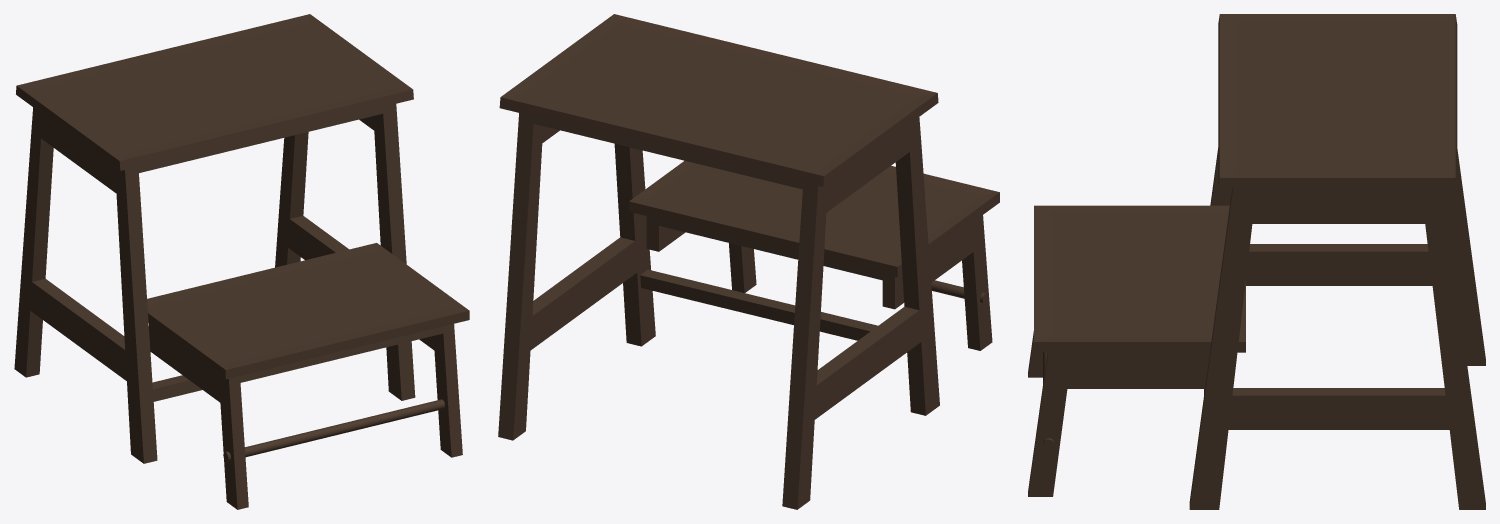
The model's file is StepStool.fbx.
3 renders of one model, left to right at view 1: azimuth 30°, elevation 25°; view 2: azimuth 150°, elevation 25°; view 3: azimuth 270°, elevation 25°, orthographic. The views are drawn at different scales.
Parts seen in each view (by area): view 1: pCube8; view 2: pCube8; view 3: pCube8.
Boxes of the visible parts, x1=… form: pCube8: x1=14, y1=14, x2=469, y2=509; pCube8: x1=498, y1=14, x2=999, y2=509; pCube8: x1=1028, y1=14, x2=1485, y2=509.
Size of the model in its own units: 64.88 by 62.47 by 76.6.
